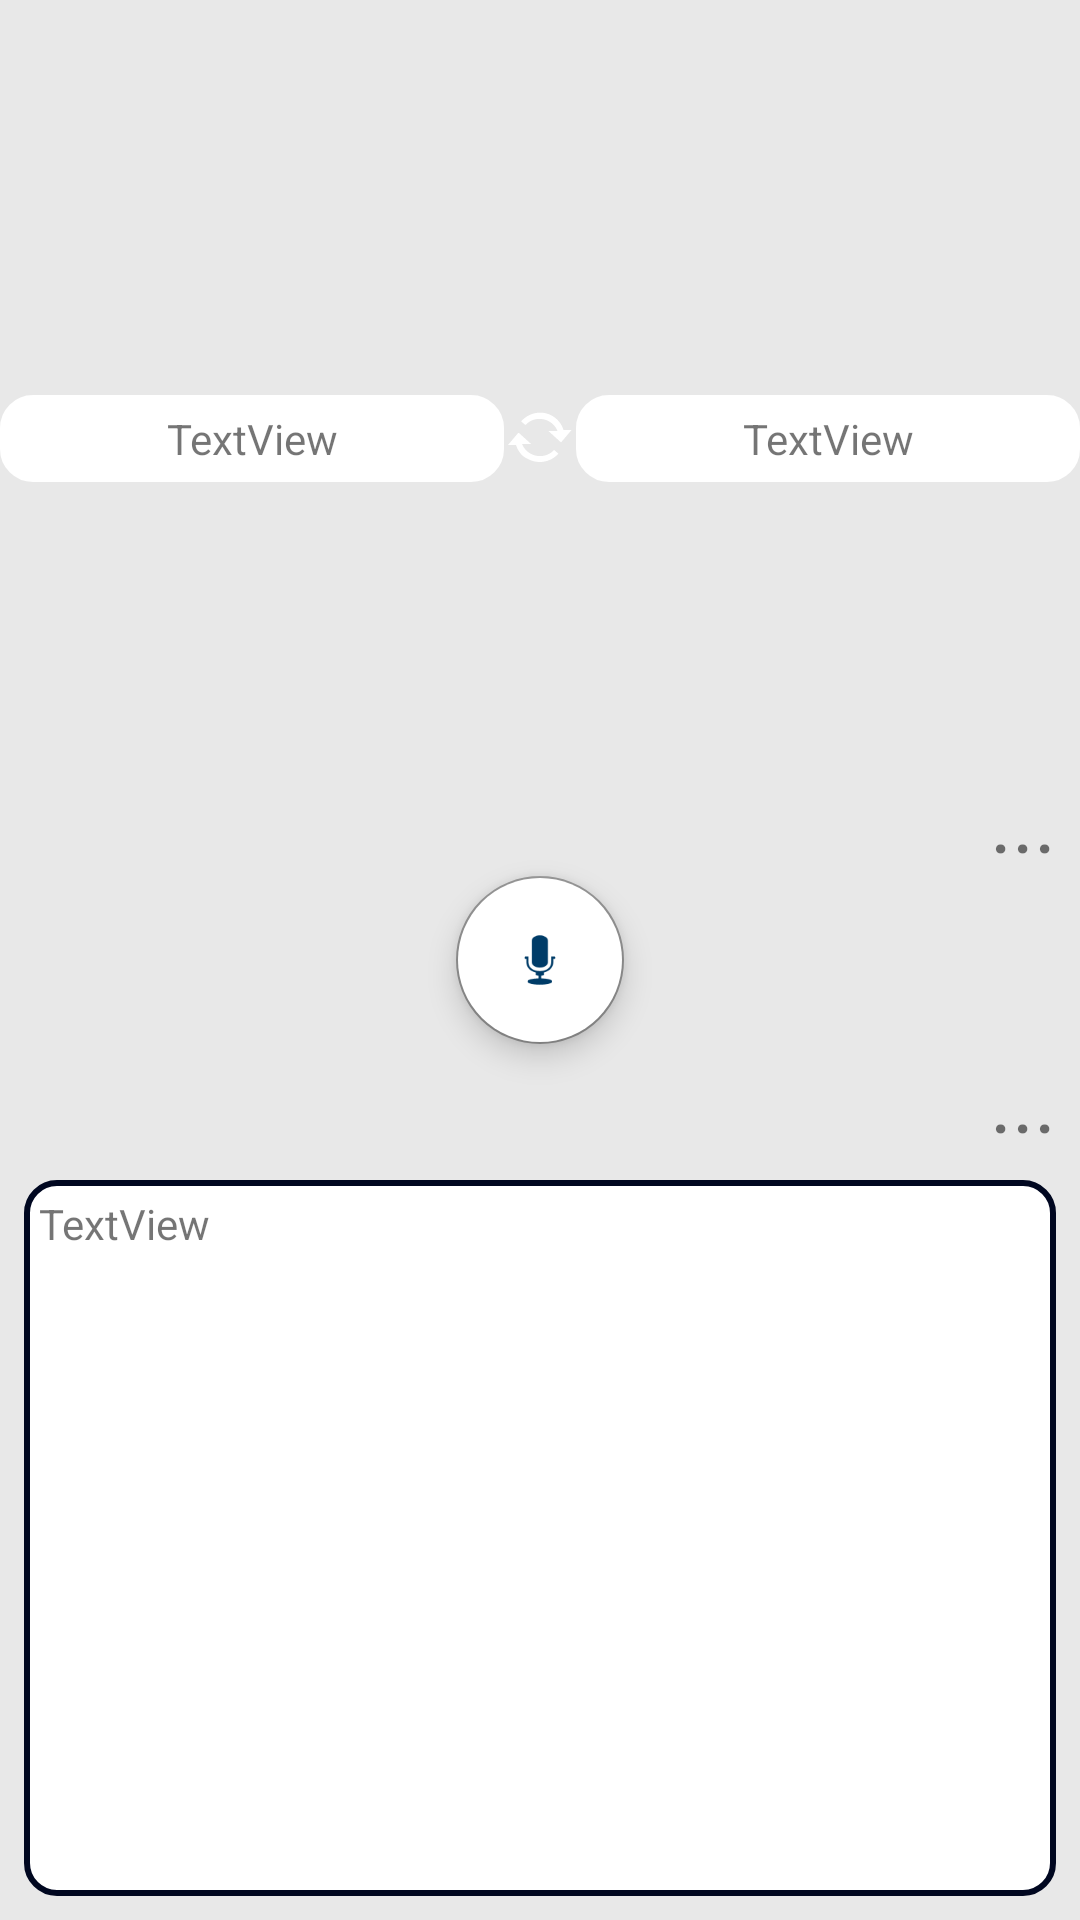

Screen size 1080*1920. Icon name, then its box in pixels as (x1, y1, x2, y2):
speak now: (456, 876, 624, 1044)
